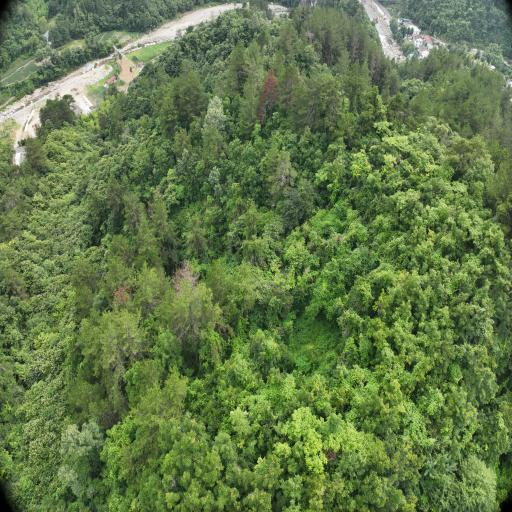sick-tree: (258, 68, 281, 120), (115, 284, 130, 304)
